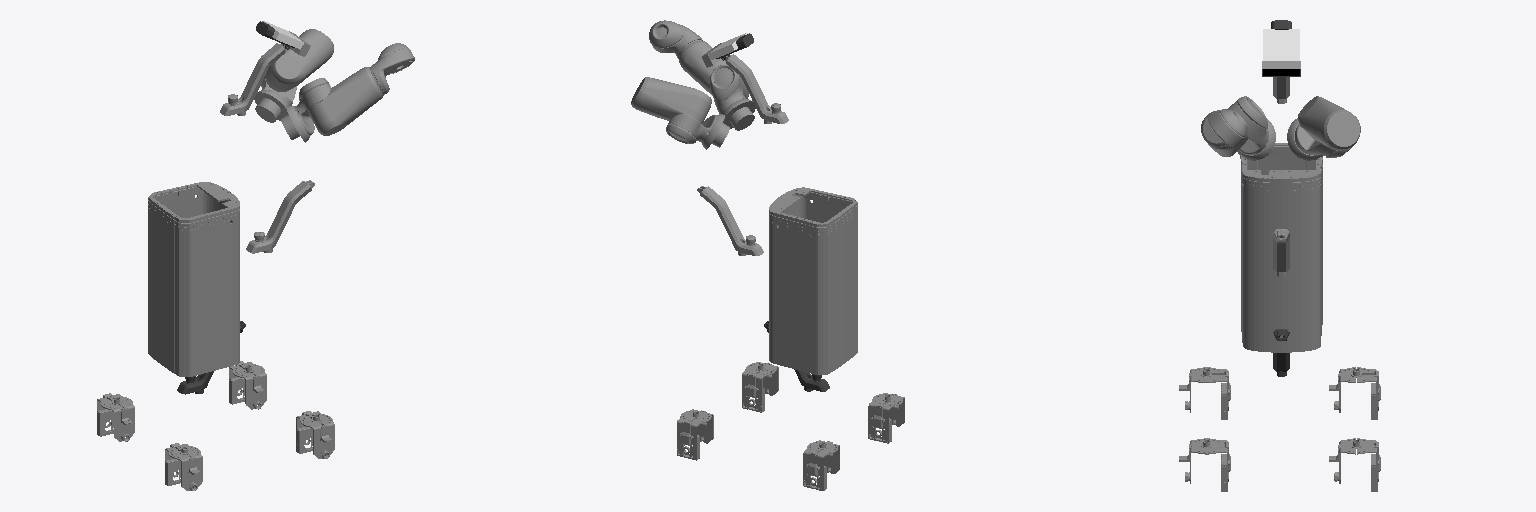
--- Render facts (derived) ---
Views: 3 orthographic renders of the robot side by side, from view 1: azimuth 30°, elevation 25°; view 2: azimuth 150°, elevation 25°; view 3: azimuth 270°, elevation 25°.
Model abb_myumi_v2 with 35 links and 34 joints (9 revolute, 4 continuous, 1 prismatic, 20 fixed), rooted at base_link, posed all joints at 0.
Visible links, largest first — view 1: pillar_body_link, yumi_robr_link_2, yumi_robl_link_2, front_right_steering_link, rear_left_steering_link, rear_right_steering_link, yumi_robr_link_1, front_left_steering_link, yumi_base_link, yumi_cs_base_link, yumi_robr_link_3, yumi_robl_link_1 (+1 smaller); view 2: pillar_body_link, yumi_robl_link_2, yumi_robr_link_1, yumi_robl_link_1, rear_right_steering_link, rear_left_steering_link, front_left_steering_link, front_right_steering_link, yumi_base_link, yumi_cs_base_link, yumi_robr_link_3, yumi_robr_link_2; view 3: pillar_body_link, yumi_robl_link_2, yumi_robr_link_1, yumi_robr_link_3, camera_body, yumi_robl_link_1, front_left_steering_link, rear_left_steering_link, front_right_steering_link, rear_right_steering_link, yumi_base_link.
Link boxes in pixels (left/top/right/bottom): pillar_body_link: left=148, top=182, right=239, bottom=376; yumi_robr_link_2: left=308, top=67, right=384, bottom=135; yumi_robl_link_2: left=265, top=29, right=333, bottom=91; front_right_steering_link: left=296, top=411, right=334, bottom=458; rear_left_steering_link: left=97, top=393, right=134, bottom=441; rear_right_steering_link: left=165, top=443, right=202, bottom=490; yumi_robr_link_1: left=281, top=78, right=330, bottom=142; front_left_steering_link: left=229, top=361, right=266, bottom=409; yumi_base_link: left=246, top=180, right=314, bottom=253; yumi_cs_base_link: left=220, top=43, right=287, bottom=115; yumi_robr_link_3: left=370, top=43, right=414, bottom=93; yumi_robl_link_1: left=254, top=77, right=296, bottom=122; pillar_body_link: left=769, top=187, right=857, bottom=374; yumi_robl_link_2: left=631, top=77, right=711, bottom=123; yumi_robr_link_1: left=710, top=65, right=755, bottom=130; yumi_robl_link_1: left=666, top=114, right=729, bottom=149; rear_right_steering_link: left=868, top=393, right=904, bottom=443; rear_left_steering_link: left=803, top=440, right=839, bottom=490; front_left_steering_link: left=677, top=409, right=713, bottom=460; front_right_steering_link: left=742, top=362, right=778, bottom=412; yumi_base_link: left=697, top=186, right=763, bottom=255; yumi_cs_base_link: left=725, top=54, right=788, bottom=123; yumi_robr_link_3: left=649, top=20, right=702, bottom=58; yumi_robr_link_2: left=679, top=41, right=748, bottom=98; pillar_body_link: left=1240, top=143, right=1322, bottom=352; yumi_robl_link_2: left=1298, top=96, right=1360, bottom=150; yumi_robr_link_1: left=1226, top=96, right=1275, bottom=160; yumi_robr_link_3: left=1201, top=109, right=1246, bottom=147; camera_body: left=1263, top=29, right=1299, bottom=60; yumi_robl_link_1: left=1287, top=118, right=1352, bottom=160; front_left_steering_link: left=1329, top=438, right=1380, bottom=491; rear_left_steering_link: left=1329, top=367, right=1380, bottom=419; front_right_steering_link: left=1179, top=438, right=1230, bottom=491; rear_right_steering_link: left=1179, top=367, right=1230, bottom=419; yumi_base_link: left=1273, top=229, right=1289, bottom=276.
Size in the robot's own frame: 0.8573 by 0.54 by 1.35 metres.
14 mesh visuals loaded from 13 distinct referenced files (9 binary STL); not drawn: 5 (reference not matched to a file when rendering).

URDF robot description (abb_myumi_v2):
<?xml version="1.0" ?>
<!-- =================================================================================== -->
<!-- |    This document was autogenerated by xacro from myumi_v2.xacro                 | -->
<!-- |    EDITING THIS FILE BY HAND IS NOT RECOMMENDED                                 | -->
<!-- =================================================================================== -->
<robot name="abb_myumi_v2">
  <!-- ============================================== Include Macros =============================================== -->
  <!-- ================================================ Main Macros ================================================ -->
  <!-- ============================================== Support Macros =============================================== -->
  <!-- ================================================ Main Macros ================================================ -->
  <!-- ============================================== Support Macros =============================================== -->
  <!-- ================================================ Main Macros ================================================ -->
  <!-- ================================================ Main Macros ================================================ -->
  <!-- ============================================== Support Macros =============================================== -->
  <!-- ================================================ Main Macros ================================================ -->
  <!-- ================================================ Main Macros ================================================ -->
  <!-- ================================================ Main Macros ================================================ -->
  <!-- ============================================== Support Macros =============================================== -->
  <link name="base_link">
    <inertial>
      <!-- Mass -->
      <mass value="1.0e-5"/>
      <!-- Inertia -->
      <inertia ixx="1.0e-6" ixy="0.0" ixz="0.0" iyy="1.0e-6" iyz="0.0" izz="1.0e-6"/>
    </inertial>
  </link>
  <link name="chassis_link">
    <visual>
      <!-- Origin -->
      <origin rpy="0.0 0.0 0.0" xyz="0.0 0.0 0.0"/>
      <geometry>
        <mesh filename="package://abb_mp_myumi_description/meshes/myumi_v2/visual/chassis_link.stl"/>
      </geometry>
      <material name="light_grey">
        <color rgba="0.6 0.6 0.6 1.0"/>
      </material>
    </visual>
    <collision>
      <!-- Origin -->
      <origin rpy="0.0 0.0 0.0" xyz="0.0 0.0 0.0"/>
      <geometry>
        <mesh filename="package://abb_mp_myumi_description/meshes/myumi_v2/collision/chassis_link.stl"/>
      </geometry>
    </collision>
    <inertial>
      <!-- Origin -->
      <origin rpy="0.0 0.0 0.0" xyz="0.0 0.0 0.125"/>
      <!-- Mass -->
      <mass value="46.23"/>
      <inertia ixx="0.44" ixy="0.0" ixz="0.0" iyy="0.45" iyz="0.0" izz="0.66"/>
    </inertial>
  </link>
  <link name="front_radar_link">
    <inertial>
      <!-- Mass -->
      <mass value="1.0e-5"/>
      <!-- Inertia -->
      <inertia ixx="1.0e-6" ixy="0.0" ixz="0.0" iyy="1.0e-6" iyz="0.0" izz="1.0e-6"/>
    </inertial>
  </link>
  <link name="front_laser_scanner_link">
    <inertial>
      <!-- Mass -->
      <mass value="1.0e-5"/>
      <!-- Inertia -->
      <inertia ixx="1.0e-6" ixy="0.0" ixz="0.0" iyy="1.0e-6" iyz="0.0" izz="1.0e-6"/>
    </inertial>
  </link>
  <link name="rear_laser_scanner_link">
    <inertial>
      <!-- Mass -->
      <mass value="1.0e-5"/>
      <!-- Inertia -->
      <inertia ixx="1.0e-6" ixy="0.0" ixz="0.0" iyy="1.0e-6" iyz="0.0" izz="1.0e-6"/>
    </inertial>
  </link>
  <joint name="chassis_joint" type="fixed">
    <!-- Parent and child -->
    <parent link="base_link"/>
    <child link="chassis_link"/>
    <!-- Origin -->
    <origin rpy="0.0 0.0 0.0" xyz="0.0 0.0 0.0292"/>
  </joint>
  <joint name="front_radar_joint" type="fixed">
    <!-- Parent and child -->
    <parent link="chassis_link"/>
    <child link="front_radar_link"/>
    <!-- Origin -->
    <origin rpy="0.0 0.0 0.0" xyz="0.35116 0.0 0.07192"/>
  </joint>
  <joint name="front_laser_scanner_joint" type="fixed">
    <!-- Parent and child -->
    <parent link="chassis_link"/>
    <child link="front_laser_scanner_link"/>
    <!-- Origin -->
    <origin rpy="0.0 0.0 0.0" xyz="0.16789 0.0 0.2837"/>
  </joint>
  <joint name="rear_laser_scanner_joint" type="fixed">
    <!-- Parent and child -->
    <parent link="chassis_link"/>
    <child link="rear_laser_scanner_link"/>
    <!-- Origin -->
    <origin rpy="0.0 0.0 3.141592653589793" xyz="-0.17921 0.0 0.2837"/>
  </joint>
  <!--link name="world"/>

  <joint name="fixed" type="fixed">
    <parent link="world"/>
    <child link="base_link"/>
  </joint-->
  <gazebo reference="chassis_link">
    <material>Gazebo/White</material>
  </gazebo>
  <!-- ================ Subcomponents ================ -->
  <!-- ============================================== Include Macros =============================================== -->
  <!-- ================================================ Main Macros ================================================ -->
  <!-- ============================================== Support Macros =============================================== -->
  <!-- ================================================ Main Macros ================================================ -->
  <!-- ============================================== Support Macros =============================================== -->
  <!-- ================================================ Main Macros ================================================ -->
  <!-- ================================================ Main Macros ================================================ -->
  <!-- ============================================== Support Macros =============================================== -->
  <!-- ================================================ Main Macros ================================================ -->
  <!-- ================================================ Main Macros ================================================ -->
  <!-- ================================================ Main Macros ================================================ -->
  <!-- ============================================== Support Macros =============================================== -->
  <link name="front_left_base_link">
    <inertial>
      <!-- Mass -->
      <mass value="1.0e-5"/>
      <!-- Inertia -->
      <inertia ixx="1.0e-6" ixy="0.0" ixz="0.0" iyy="1.0e-6" iyz="0.0" izz="1.0e-6"/>
    </inertial>
  </link>
  <link name="front_left_steering_link">
    <visual>
      <!-- Origin -->
      <origin rpy="0.0 0.0 0.0" xyz="0.0 0.0 0.0"/>
      <geometry>
        <mesh filename="package://abb_mp_steerable_wheel_description/meshes/sw_v3/visual/steering_link.stl"/>
      </geometry>
      <material name="light_grey">
        <color rgba="0.6 0.6 0.6 1.0"/>
      </material>
    </visual>
    <collision>
      <!-- Origin -->
      <origin rpy="0.0 0.0 0.0" xyz="0.0 0.0 0.0"/>
      <geometry>
        <mesh filename="package://abb_mp_steerable_wheel_description/meshes/sw_v3/collision/steering_link.stl"/>
      </geometry>
    </collision>
    <inertial>
      <!-- Origin -->
      <origin rpy="0.0 1.0000736613927508 0.0" xyz="0.0 0.0 0.0"/>
      <!-- Mass -->
      <mass value="2.6"/>
      <inertia ixx="0.0018" ixy="0.0" ixz="0.0" iyy="0.0017" iyz="-0.0004" izz="0.0013"/>
    </inertial>
  </link>
  <link name="front_left_drive_wheel_link">
    <visual>
      <!-- Origin -->
      <origin rpy="0.0 0.0 0.0" xyz="0.0 0.0 0.0"/>
      <geometry>
        <mesh filename="package://abb_mp_steerable_wheel_description/meshes/sw_v3/visual/drive_wheel_link.stl"/>
      </geometry>
      <material name="dark_grey">
        <color rgba="0.3 0.3 0.3 1.0"/>
      </material>
    </visual>
    <collision>
      <!-- Origin -->
      <origin rpy="1.5707963267948966 0.0 0.0" xyz="0.0 0.0 0.0"/>
      <geometry>
        <cylinder length="0.047" radius="0.0865"/>
      </geometry>
    </collision>
    <inertial>
      <!-- Origin -->
      <origin rpy="0.0 0.0 0.0" xyz="0.0 0.0 0.0"/>
      <!-- Mass -->
      <mass value="1.31"/>
      <inertia ixx="0.0018" ixy="0.0" ixz="0.0" iyy="0.0017" iyz="0.0" izz="0.0013"/>
    </inertial>
  </link>
  <joint name="front_left_steering_joint" type="revolute">
    <!-- Parent and child -->
    <parent link="front_left_base_link"/>
    <child link="front_left_steering_link"/>
    <!-- Origin -->
    <origin rpy="0.0 0.0 0.0" xyz="0.0 0.0 0.0"/>
    <axis xyz="0.0 0.0 1.0"/>
    <limit effort="1000.0" lower="-3.141592653589793" upper="3.141592653589793" velocity="62.83185307179586"/>
    <dynamics damping="0.0" friction="0.0"/>
  </joint>
  <joint name="front_left_drive_wheel_joint" type="continuous">
    <!-- Parent and child -->
    <parent link="front_left_steering_link"/>
    <child link="front_left_drive_wheel_link"/>
    <!-- Origin -->
    <origin rpy="0.0 0.0 0.0" xyz="0.0 0.0 -0.0925"/>
    <axis xyz="0.0 1.0 0.0"/>
  </joint>
  <transmission name="front_left_steering_transmission">
    <type>transmission_interface/SimpleTransmission</type>
    <joint name="front_left_steering_joint">
      <hardwareInterface>hardware_interface/PositionJointInterface</hardwareInterface>
    </joint>
    <actuator name="front_left_steering_joint_motor">
      <mechanicalReduction>1.0</mechanicalReduction>
    </actuator>
  </transmission>
  <transmission name="front_left_drive_wheel_transmission">
    <type>transmission_interface/SimpleTransmission</type>
    <joint name="front_left_drive_wheel_joint">
      <hardwareInterface>hardware_interface/VelocityJointInterface</hardwareInterface>
    </joint>
    <actuator name="front_left_drive_wheel_joint_motor">
      <mechanicalReduction>1.0</mechanicalReduction>
    </actuator>
  </transmission>
  <gazebo reference="front_left_steering_link">
    <material>Gazebo/White</material>
  </gazebo>
  <gazebo reference="front_left_drive_wheel_link">
    <material>Gazebo/Grey</material>
    <mu1 value="1.0"/>
    <mu2 value="1.0"/>
    <kp value="1000000.0"/>
    <kd value="1000.0"/>
    <fdir1 value="1.0 0.0 0.0"/>
  </gazebo>
  <!-- ============================================== Include Macros =============================================== -->
  <!-- ================================================ Main Macros ================================================ -->
  <!-- ============================================== Support Macros =============================================== -->
  <!-- ================================================ Main Macros ================================================ -->
  <!-- ============================================== Support Macros =============================================== -->
  <!-- ================================================ Main Macros ================================================ -->
  <!-- ================================================ Main Macros ================================================ -->
  <!-- ============================================== Support Macros =============================================== -->
  <!-- ================================================ Main Macros ================================================ -->
  <!-- ================================================ Main Macros ================================================ -->
  <!-- ================================================ Main Macros ================================================ -->
  <!-- ============================================== Support Macros =============================================== -->
  <link name="front_right_base_link">
    <inertial>
      <!-- Mass -->
      <mass value="1.0e-5"/>
      <!-- Inertia -->
      <inertia ixx="1.0e-6" ixy="0.0" ixz="0.0" iyy="1.0e-6" iyz="0.0" izz="1.0e-6"/>
    </inertial>
  </link>
  <link name="front_right_steering_link">
    <visual>
      <!-- Origin -->
      <origin rpy="0.0 0.0 0.0" xyz="0.0 0.0 0.0"/>
      <geometry>
        <mesh filename="package://abb_mp_steerable_wheel_description/meshes/sw_v3/visual/steering_link.stl"/>
      </geometry>
      <material name="light_grey">
        <color rgba="0.6 0.6 0.6 1.0"/>
      </material>
    </visual>
    <collision>
      <!-- Origin -->
      <origin rpy="0.0 0.0 0.0" xyz="0.0 0.0 0.0"/>
      <geometry>
        <mesh filename="package://abb_mp_steerable_wheel_description/meshes/sw_v3/collision/steering_link.stl"/>
      </geometry>
    </collision>
    <inertial>
      <!-- Origin -->
      <origin rpy="0.0 1.0000736613927508 0.0" xyz="0.0 0.0 0.0"/>
      <!-- Mass -->
      <mass value="2.6"/>
      <inertia ixx="0.0018" ixy="0.0" ixz="0.0" iyy="0.0017" iyz="-0.0004" izz="0.0013"/>
    </inertial>
  </link>
  <link name="front_right_drive_wheel_link">
    <visual>
      <!-- Origin -->
      <origin rpy="0.0 0.0 0.0" xyz="0.0 0.0 0.0"/>
      <geometry>
        <mesh filename="package://abb_mp_steerable_wheel_description/meshes/sw_v3/visual/drive_wheel_link.stl"/>
      </geometry>
      <material name="dark_grey">
        <color rgba="0.3 0.3 0.3 1.0"/>
      </material>
    </visual>
    <collision>
      <!-- Origin -->
      <origin rpy="1.5707963267948966 0.0 0.0" xyz="0.0 0.0 0.0"/>
      <geometry>
        <cylinder length="0.047" radius="0.0865"/>
      </geometry>
    </collision>
    <inertial>
      <!-- Origin -->
      <origin rpy="0.0 0.0 0.0" xyz="0.0 0.0 0.0"/>
      <!-- Mass -->
      <mass value="1.31"/>
      <inertia ixx="0.0018" ixy="0.0" ixz="0.0" iyy="0.0017" iyz="0.0" izz="0.0013"/>
    </inertial>
  </link>
  <joint name="front_right_steering_joint" type="revolute">
    <!-- Parent and child -->
    <parent link="front_right_base_link"/>
    <child link="front_right_steering_link"/>
    <!-- Origin -->
    <origin rpy="0.0 0.0 0.0" xyz="0.0 0.0 0.0"/>
    <axis xyz="0.0 0.0 1.0"/>
    <limit effort="1000.0" lower="-3.141592653589793" upper="3.141592653589793" velocity="62.83185307179586"/>
    <dynamics damping="0.0" friction="0.0"/>
  </joint>
  <joint name="front_right_drive_wheel_joint" type="continuous">
    <!-- Parent and child -->
    <parent link="front_right_steering_link"/>
    <child link="front_right_drive_wheel_link"/>
    <!-- Origin -->
    <origin rpy="0.0 0.0 0.0" xyz="0.0 0.0 -0.0925"/>
    <axis xyz="0.0 1.0 0.0"/>
  </joint>
  <transmission name="front_right_steering_transmission">
    <type>transmission_interface/SimpleTransmission</type>
    <joint name="front_right_steering_joint">
      <hardwareInterface>hardware_interface/PositionJointInterface</hardwareInterface>
    </joint>
    <actuator name="front_right_steering_joint_motor">
      <mechanicalReduction>1.0</mechanicalReduction>
    </actuator>
  </transmission>
  <transmission name="front_right_drive_wheel_transmission">
    <type>transmission_interface/SimpleTransmission</type>
    <joint name="front_right_drive_wheel_joint">
      <hardwareInterface>hardware_interface/VelocityJointInterface</hardwareInterface>
    </joint>
    <actuator name="front_right_drive_wheel_joint_motor">
      <mechanicalReduction>1.0</mechanicalReduction>
    </actuator>
  </transmission>
  <gazebo reference="front_right_steering_link">
    <material>Gazebo/White</material>
  </gazebo>
  <gazebo reference="front_right_drive_wheel_link">
    <material>Gazebo/Grey</material>
    <mu1 value="1.0"/>
    <mu2 value="1.0"/>
    <kp value="1000000.0"/>
    <kd value="1000.0"/>
    <fdir1 value="1.0 0.0 0.0"/>
  </gazebo>
  <!-- ============================================== Include Macros =============================================== -->
  <!-- ================================================ Main Macros ================================================ -->
  <!-- ============================================== Support Macros =============================================== -->
  <!-- ================================================ Main Macros ================================================ -->
  <!-- ============================================== Support Macros =============================================== -->
  <!-- ================================================ Main Macros ================================================ -->
  <!-- ================================================ Main Macros ================================================ -->
  <!-- ============================================== Support Macros =============================================== -->
  <!-- ================================================ Main Macros ================================================ -->
  <!-- ================================================ Main Macros ================================================ -->
  <!-- ================================================ Main Macros ================================================ -->
  <!-- ============================================== Support Macros =============================================== -->
  <link name="rear_right_base_link">
    <inertial>
      <!-- Mass -->
      <mass value="1.0e-5"/>
      <!-- Inertia -->
      <inertia ixx="1.0e-6" ixy="0.0" ixz="0.0" iyy="1.0e-6" iyz="0.0" izz="1.0e-6"/>
    </inertial>
  </link>
  <link name="rear_right_steering_link">
    <visual>
      <!-- Origin -->
      <origin rpy="0.0 0.0 0.0" xyz="0.0 0.0 0.0"/>
      <geometry>
        <mesh filename="package://abb_mp_steerable_wheel_description/meshes/sw_v3/visual/steering_link.stl"/>
      </geometry>
      <material name="light_grey">
        <color rgba="0.6 0.6 0.6 1.0"/>
      </material>
    </visual>
    <collision>
      <!-- Origin -->
      <origin rpy="0.0 0.0 0.0" xyz="0.0 0.0 0.0"/>
      <geometry>
        <mesh filename="package://abb_mp_steerable_wheel_description/meshes/sw_v3/collision/steering_link.stl"/>
      </geometry>
    </collision>
    <inertial>
      <!-- Origin -->
      <origin rpy="0.0 1.0000736613927508 0.0" xyz="0.0 0.0 0.0"/>
      <!-- Mass -->
      <mass value="2.6"/>
      <inertia ixx="0.0018" ixy="0.0" ixz="0.0" iyy="0.0017" iyz="-0.0004" izz="0.0013"/>
    </inertial>
  </link>
  <link name="rear_right_drive_wheel_link">
    <visual>
      <!-- Origin -->
      <origin rpy="0.0 0.0 0.0" xyz="0.0 0.0 0.0"/>
      <geometry>
        <mesh filename="package://abb_mp_steerable_wheel_description/meshes/sw_v3/visual/drive_wheel_link.stl"/>
      </geometry>
      <material name="dark_grey">
        <color rgba="0.3 0.3 0.3 1.0"/>
      </material>
    </visual>
    <collision>
      <!-- Origin -->
      <origin rpy="1.5707963267948966 0.0 0.0" xyz="0.0 0.0 0.0"/>
      <geometry>
        <cylinder length="0.047" radius="0.0865"/>
      </geometry>
    </collision>
    <inertial>
      <!-- Origin -->
      <origin rpy="0.0 0.0 0.0" xyz="0.0 0.0 0.0"/>
      <!-- Mass -->
      <mass value="1.31"/>
      <inertia ixx="0.0018" ixy="0.0" ixz="0.0" iyy="0.0017" iyz="0.0" izz="0.0013"/>
    </inertial>
  </link>
  <joint name="rear_right_steering_joint" type="revolute">
    <!-- Parent and child -->
    <parent link="rear_right_base_link"/>
    <child link="rear_right_steering_link"/>
    <!-- Origin -->
    <origin rpy="0.0 0.0 0.0" xyz="0.0 0.0 0.0"/>
    <axis xyz="0.0 0.0 1.0"/>
    <limit effort="1000.0" lower="-3.141592653589793" upper="3.141592653589793" velocity="62.83185307179586"/>
    <dynamics damping="0.0" friction="0.0"/>
  </joint>
  <joint name="rear_right_drive_wheel_joint" type="continuous">
    <!-- Parent and child -->
    <parent link="rear_right_steering_link"/>
    <child link="rear_right_drive_wheel_link"/>
    <!-- Origin -->
    <origin rpy="0.0 0.0 0.0" xyz="0.0 0.0 -0.0925"/>
    <axis xyz="0.0 1.0 0.0"/>
  </joint>
  <transmission name="rear_right_steering_transmission">
    <type>transmission_interface/SimpleTransmission</type>
    <joint name="rear_right_steering_joint">
      <hardwareInterface>hardware_interface/PositionJointInterface</hardwareInterface>
    </joint>
    <actuator name="rear_right_steering_joint_motor">
      <mechanicalReduction>1.0</mechanicalReduction>
    </actuator>
  </transmission>
  <transmission name="rear_right_drive_wheel_transmission">
    <type>transmission_interface/SimpleTransmission</type>
    <joint name="rear_right_drive_wheel_joint">
      <hardwareInterface>hardware_interface/VelocityJointInterface</hardwareInterface>
    </joint>
    <actuator name="rear_right_drive_wheel_joint_motor">
      <mechanicalReduction>1.0</mechanicalReduction>
    </actuator>
  </transmission>
  <gazebo reference="rear_right_steering_link">
    <material>Gazebo/White</material>
  </gazebo>
  <gazebo reference="rear_right_drive_wheel_link">
    <material>Gazebo/Grey</material>
    <mu1 value="1.0"/>
    <mu2 value="1.0"/>
    <kp value="1000000.0"/>
    <kd value="1000.0"/>
    <fdir1 value="1.0 0.0 0.0"/>
  </gazebo>
  <!-- ============================================== Include Macros =============================================== -->
  <!-- ================================================ Main Macros ================================================ -->
  <!-- ============================================== Support Macros =============================================== -->
  <!-- ================================================ Main Macros ================================================ -->
  <!-- ============================================== Support Macros =============================================== -->
  <!-- ================================================ Main Macros ================================================ -->
  <!-- ================================================ Main Macros ================================================ -->
  <!-- ============================================== Support Macros =============================================== -->
  <!-- ================================================ Main Macros ================================================ -->
  <!-- ================================================ Main Macros ================================================ -->
  <!-- ================================================ Main Macros ================================================ -->
  <!-- ============================================== Support Macros =============================================== -->
  <link name="rear_left_base_link">
    <inertial>
      <!-- Mass -->
      <mass value="1.0e-5"/>
      <!-- Inertia -->
      <inertia ixx="1.0e-6" ixy="0.0" ixz="0.0" iyy="1.0e-6" iyz="0.0" izz="1.0e-6"/>
    </inertial>
  </link>
  <link name="rear_left_steering_link">
    <visual>
      <!-- Origin -->
      <origin rpy="0.0 0.0 0.0" xyz="0.0 0.0 0.0"/>
      <geometry>
        <mesh filename="package://abb_mp_steerable_wheel_description/meshes/sw_v3/visual/steering_link.stl"/>
      </geometry>
      <material name="light_grey">
        <color rgba="0.6 0.6 0.6 1.0"/>
      </material>
    </visual>
    <collision>
      <!-- Origin -->
      <origin rpy="0.0 0.0 0.0" xyz="0.0 0.0 0.0"/>
      <geometry>
        <mesh filename="package://abb_mp_steerable_wheel_description/meshes/sw_v3/collision/steering_link.stl"/>
      </geometry>
    </collision>
    <inertial>
      <!-- Origin -->
      <origin rpy="0.0 1.0000736613927508 0.0" xyz="0.0 0.0 0.0"/>
      <!-- Mass -->
      <mass value="2.6"/>
      <inertia ixx="0.0018" ixy="0.0" ixz="0.0" iyy="0.0017" iyz="-0.0004" izz="0.0013"/>
    </inertial>
  </link>
  <link name="rear_left_drive_wheel_link">
    <visual>
      <!-- Origin -->
      <origin rpy="0.0 0.0 0.0" xyz="0.0 0.0 0.0"/>
      <geometry>
        <mesh filename="package://abb_mp_steerable_wheel_description/meshes/sw_v3/visual/drive_wheel_link.stl"/>
      </geometry>
      <material name="dark_grey">
        <color rgba="0.3 0.3 0.3 1.0"/>
      </material>
    </visual>
    <collision>
      <!-- Origin -->
      <origin rpy="1.5707963267948966 0.0 0.0" xyz="0.0 0.0 0.0"/>
      <geometry>
        <cylinder length="0.047" radius="0.0865"/>
      </geometry>
    </collision>
    <inertial>
      <!-- Origin -->
      <origin rpy="0.0 0.0 0.0" xyz="0.0 0.0 0.0"/>
      <!-- Mass -->
      <mass value="1.31"/>
      <inertia ixx="0.0018" ixy="0.0" ixz="0.0" iyy="0.0017" iyz="0.0" izz="0.0013"/>
    </inertial>
  </link>
  <joint name="rear_left_steering_joint" type="revolute">
    <!-- Parent and child -->
    <parent link="rear_left_base_link"/>
    <child link="rear_left_steering_link"/>
    <!-- Origin -->
    <origin rpy="0.0 0.0 0.0" xyz="0.0 0.0 0.0"/>
    <axis xyz="0.0 0.0 1.0"/>
    <limit effort="1000.0" lower="-3.141592653589793" upper="3.141592653589793" velocity="62.83185307179586"/>
    <dynamics damping="0.0" friction="0.0"/>
  </joint>
  <joint name="rear_left_drive_wheel_joint" type="continuous">
    <!-- Parent and child -->
    <parent link="rear_left_steering_link"/>
    <child link="rear_left_drive_wheel_link"/>
    <!-- Origin -->
    <origin rpy="0.0 0.0 0.0" xyz="0.0 0.0 -0.0925"/>
    <axis xyz="0.0 1.0 0.0"/>
  </joint>
  <transmission name="rear_left_steering_transmission">
    <type>transmission_interface/SimpleTransmission</type>
    <joint name="rear_left_steering_joint">
      <hardwareInterface>hardware_interface/PositionJointInterface</hardwareInterface>
    </joint>
    <actuator name="rear_left_steering_joint_motor">
      <mechanicalReduction>1.0</mechanicalReduction>
    </actuator>
  </transmission>
  <transmission name="rear_left_drive_wheel_transmission">
    <type>transmission_interface/SimpleTransmission</type>
    <joint name="rear_left_drive_wheel_joint">
      <hardwareInterface>hardware_interface/VelocityJointInterface</hardwareInterface>
    </joint>
    <actuator name="rear_left_drive_wheel_joint_motor">
      <mechanicalReduction>1.0</mechanicalReduction>
    </actuator>
  </transmission>
  <gazebo reference="rear_left_steering_link">
    <material>Gazebo/White</material>
  </gazebo>
  <gazebo reference="rear_left_drive_wheel_link">
    <material>Gazebo/Grey</material>
    <mu1 value="1.0"/>
    <mu2 value="1.0"/>
    <kp value="1000000.0"/>
    <kd value="1000.0"/>
    <fdir1 value="1.0 0.0 0.0"/>
  </gazebo>
  <joint name="front_left_joint" type="fixed">
    <!-- Parent and child -->
    <parent link="chassis_link"/>
    <child link="front_left_base_link"/>
    <!-- Origin -->
    <origin rpy="0.0 0.0 0.0" xyz="0.285 0.2002 0.1498"/>
  </joint>
  <joint name="front_right_joint" type="fixed">
    <!-- Parent and child -->
    <parent link="chassis_link"/>
    <child link="front_right_base_link"/>
    <!-- Origin -->
    <origin rpy="0.0 0.0 0.0" xyz="0.285 -0.2002 0.1498"/>
  </joint>
  <joint name="rear_right_joint" type="fixed">
    <!-- Parent and child -->
    <parent link="chassis_link"/>
    <child link="rear_right_base_link"/>
    <!-- Origin -->
    <origin rpy="0.0 0.0 0.0" xyz="-0.165 -0.2002 0.1498"/>
  </joint>
  <joint name="rear_left_joint" type="fixed">
    <!-- Parent and child -->
    <parent link="chassis_link"/>
    <child link="rear_left_base_link"/>
    <!-- Origin -->
    <origin rpy="0.0 0.0 0.0" xyz="-0.165 0.2002 0.1498"/>
  </joint>
  <!-- ============================================== Include Macros =============================================== -->
  <!-- ================================================ Main Macros ================================================ -->
  <!-- ============================================== Support Macros =============================================== -->
  <!-- ================================================ Main Macros ================================================ -->
  <!-- ============================================== Support Macros =============================================== -->
  <!-- ================================================ Main Macros ================================================ -->
  <!-- ================================================ Main Macros ================================================ -->
  <!-- ============================================== Support Macros =============================================== -->
  <!-- ================================================ Main Macros ================================================ -->
  <!-- ================================================ Main Macros ================================================ -->
  <!-- ================================================ Main Macros ================================================ -->
  <!-- ============================================== Support Macros =============================================== -->
  <link name="pillar_base_link">
    <visual>
      <!-- Origin -->
      <origin rpy="0.0 0.0 0.0" xyz="0.0 0.0 0.241"/>
      <geometry>
        <mesh filename="package://abb_mp_telescopic_pillar_description/meshes/tp_v2/visual/base_link.stl"/>
      </geometry>
      <material name="dark_grey">
        <color rgba="0.3 0.3 0.3 1.0"/>
      </material>
    </visual>
    <collision>
      <!-- Origin -->
      <origin rpy="0.0 0.0 0.0" xyz="0.0 0.0 0.241"/>
      <geometry>
        <mesh filename="package://abb_mp_telescopic_pillar_description/meshes/tp_v2/collision/base_link.stl"/>
      </geometry>
    </collision>
    <inertial>
      <!-- Origin -->
      <origin rpy="0.0 0.0 0.0" xyz="0.0 0.0 0.36"/>
      <!-- Mass -->
      <mass value="5.5"/>
      <inertia ixx="0.001422" ixy="0.0" ixz="0.0" iyy="0.001422" iyz="0.0" izz="0.000366"/>
    </inertial>
  </link>
  <link name="pillar_body_link">
    <visual>
      <!-- Origin -->
      <origin rpy="0.0 0.0 0.0" xyz="0.0 0.0 0.1"/>
      <geometry>
        <mesh filename="package://abb_mp_telescopic_pillar_description/meshes/tp_v2/visual/body_link.stl"/>
      </geometry>
      <material name="light_grey">
        <color rgba="0.6 0.6 0.6 1.0"/>
      </material>
    </visual>
    <collision>
      <!-- Origin -->
      <origin rpy="0.0 0.0 0.0" xyz="0.0 0.0 0.1"/>
      <geometry>
        <mesh filename="package://abb_mp_telescopic_pillar_description/meshes/tp_v2/collision/body_link.stl"/>
      </geometry>
    </collision>
    <inertial>
      <!-- Origin -->
      <origin rpy="0.0 0.0 0.0" xyz="0.0 0.0 0.36"/>
      <!-- Mass -->
      <mass value="5.5"/>
      <inertia ixx="0.001422" ixy="0.0" ixz="0.0" iyy="0.001422" iyz="0.0" izz="0.000366"/>
    </inertial>
  </link>
  <link name="pillar_top_link">
    <inertial>
      <!-- Mass -->
      <mass value="1.0e-5"/>
      <!-- Inertia -->
      <inertia ixx="1.0e-6" ixy="0.0" ixz="0.0" iyy="1.0e-6" iyz="0.0" izz="1.0e-6"/>
    </inertial>
  </link>
  <joint name="pillar_body_joint" type="prismatic">
    <!-- Parent and child -->
    <parent link="pillar_base_link"/>
    <child link="pillar_body_link"/>
    <!-- Origin -->
    <origin rpy="0.0 0.0 0.0" xyz="0.0 0.0 0.241"/>
    <axis xyz="0 0 1"/>
    <limit effort="1000.0" lower="0.0" upper="0.45" velocity="1.0"/>
    <dynamics damping="0.0" friction="0.0"/>
  </joint>
  <joint name="pillar_top_joint" type="fixed">
    <!-- Parent and child -->
    <parent link="pillar_body_link"/>
    <child link="pillar_top_link"/>
    <!-- Origin -->
    <origin rpy="0.0 0.0 0.0" xyz="0.0 0.0 0.5125"/>
  </joint>
  <transmission name="pillar_body_transmission">
    <type>transmission_interface/SimpleTransmission</type>
    <joint name="pillar_body_joint">
      <hardwareInterface>hardware_interface/EffortJointInterface</hardwareInterface>
    </joint>
    <actuator name="pillar_body_joint_motor">
      <mechanicalReduction>1.0</mechanicalReduction>
    </actuator>
  </transmission>
  <gazebo reference="pillar_base_link">
    <material>Gazebo/Grey</material>
    <mu1 value="0.8"/>
    <mu2 value="0.8"/>
    <kp value="1000000.0"/>
    <kd value="1000.0"/>
    <fdir1 value="0 0 1"/>
    <maxVel value="0.0"/>
    <minDepth value="0.001"/>
  </gazebo>
  <gazebo reference="pillar_body_link">
    <material>Gazebo/White</material>
    <mu1 value="0.8"/>
    <mu2 value="0.8"/>
    <kp value="1000000.0"/>
    <kd value="1000.0"/>
    <fdir1 value="0 0 1"/>
    <maxVel value="0.0"/>
    <minDepth value="0.001"/>
  </gazebo>
  <!--xacro:include filename="$(find abb_mp_telescopic_pillar_description)/urdf/gazebo.urdf.xacro"/-->
  <joint name="chassi_pillar_joint" type="fixed">
    <!-- Parent and child -->
    <parent link="chassis_link"/>
    <child link="pillar_base_link"/>
    <!-- Origin -->
    <origin rpy="0.0 0.0 0.0" xyz="0.0 0.0 0.0"/>
  </joint>
  <!-- ============================================== Include Macros =============================================== -->
  <!-- ================================================ Main Macros ================================================ -->
  <!-- ============================================== Support Macros =============================================== -->
  <!-- ================================================ Main Macros ================================================ -->
  <!-- ============================================== Support Macros =============================================== -->
  <!-- ================================================ Main Macros ================================================ -->
  <!-- ================================================ Main Macros ================================================ -->
  <!-- ============================================== Support Macros =============================================== -->
  <!-- ================================================ Main Macros ================================================ -->
  <!-- ================================================ Main Macros ================================================ -->
  <!-- ================================================ Main Macros ================================================ -->
  <!-- ============================================== Support Macros =============================================== -->
  <link name="yumi_base_link">
    <visual>
      <!-- Origin -->
      <origin rpy="0.0 0.0 0.0" xyz="0.0 0.0 0.0"/>
      <geometry>
        <mesh filename="package://abb_mp_irb14000_description/meshes/irb14000_05_50/visual/base_link.stl"/>
      </geometry>
      <material name="light_grey">
        <color rgba="0.6 0.6 0.6 1.0"/>
      </material>
    </visual>
    <collision>
      <!-- Origin -->
      <origin rpy="0.0 0.0 0.0" xyz="0.0 0.0 0.0"/>
      <geometry>
        <mesh filename="package://abb_mp_irb14000_description/meshes/irb14000_05_50/collision/base_link.stl"/>
      </geometry>
    </collision>
    <inertial>
      <!-- Origin -->
      <origin rpy="0.0 0.0 0.0" xyz="0.0 0.0 0.0"/>
      <!-- Mass -->
      <mass value="1.095"/>
      <inertia ixx="0.00088" ixy="0.0" ixz="0.0" iyy="0.00177" iyz="0.0" izz="0.00177"/>
    </inertial>
  </link>
  <link name="yumi_base">
    <inertial>
      <!-- Mass -->
      <mass value="1.0e-5"/>
      <!-- Inertia -->
      <inertia ixx="1.0e-6" ixy="0.0" ixz="0.0" iyy="1.0e-6" iyz="0.0" izz="1.0e-6"/>
    </inertial>
  </link>
  <link name="yumi_robl_base_link">
    <inertial>
      <!-- Mass -->
      <mass value="1.0e-5"/>
      <!-- Inertia -->
      <inertia ixx="1.0e-6" ixy="0.0" ixz="0.0" iyy="1.0e-6" iyz="0.0" izz="1.0e-6"/>
    </inertial>
  </link>
  <link name="yumi_robl_link_1">
    <visual>
      <!-- Origin -->
      <origin rpy="0.0 0.0 0.0" xyz="0.0 0.0 0.0"/>
      <geometry>
        <mesh filename="package://abb_mp_irb14000_description/meshes/irb14000_05_50/visual/robl_link_1.stl"/>
      </geometry>
      <material name="light_grey">
        <color rgba="0.6 0.6 0.6 1.0"/>
      </material>
    </visual>
    <collision>
      <!-- Origin -->
      <origin rpy="0.0 0.0 0.0" xyz="0.0 0.0 0.0"/>
      <geometry>
        <mesh filename="package://abb_mp_irb14000_description/meshes/irb14000_05_50/collision/robl_link_1.stl"/>
      </geometry>
    </collision>
    <inertial>
      <!-- Origin -->
      <origin rpy="0.0 0.0 0.0" xyz="-0.01468 -0.00021 0.06646"/>
      <!-- Mass -->
      <mass value="1.753"/>
      <inertia ixx="-0.002132958402100001" ixy="0.0001064041484" ixz="-0.0028402842984" iyy="-0.002670656802000002" iyz="-0.0002044659198" izz="0.0025121469855"/>
    </inertial>
  </link>
  <link name="yumi_robl_link_2">
    <visual>
      <!-- Origin -->
      <origin rpy="0.0 0.0 0.0" xyz="0.0 0.0 0.0"/>
      <geometry>
        <mesh filename="package://abb_mp_irb14000_description/meshes/irb14000_05_50/visual/robl_link_2.stl"/>
      </geometry>
      <material name="light_grey">
        <color rgba="0.6 0.6 0.6 1.0"/>
      </material>
    </visual>
    <collision>
      <!-- Origin -->
      <origin rpy="0.0 0.0 0.0" xyz="0.0 0.0 0.0"/>
      <geometry>
        <mesh filename="package://abb_mp_irb14000_description/meshes/irb14000_05_50/collision/robl_link_2.stl"/>
      </geometry>
    </collision>
    <inertial>
      <!-- Origin -->
      <origin rpy="0.0 0.0 0.0" xyz="0.01828 -0.0177 0.06202"/>
      <!-- Mass -->
      <mass value="1.444"/>
      <inertia ixx="0.001423291542400001" ixy="-0.000108214864" ixz="0.0026970997664" iyy="0.001143157572800001" iyz="-0.000155156776" izz="0.0013150845104"/>
    </inertial>
  </link>
  <!--xacro:link_tag name="robl_link_3"/>
	  <xacro:link_tag name="robl_link_4"/>
	  <xacro:link_tag name="robl_link_5"/>
	  <xacro:link_tag name="robl_link_6"/>
	  <xacro:link_tag name="robl_link_7"/>
	  <xacro:link_tag name="robl_flange"/>
	  <xacro:link_tag name="robl_tool0"/-->
  <link name="yumi_robr_base_link">
    <inertial>
      <!-- Mass -->
      <mass value="1.0e-5"/>
      <!-- Inertia -->
      <inertia ixx="1.0e-6" ixy="0.0" ixz="0.0" iyy="1.0e-6" iyz="0.0" izz="1.0e-6"/>
    </inertial>
  </link>
  <link name="yumi_robr_link_1">
    <visual>
      <!-- Origin -->
      <origin rpy="0.0 0.0 0.0" xyz="0.0 0.0 0.0"/>
      <geometry>
        <mesh filename="package://abb_mp_irb14000_description/meshes/irb14000_05_50/visual/robr_link_1.stl"/>
      </geometry>
      <material name="light_grey">
        <color rgba="0.6 0.6 0.6 1.0"/>
      </material>
    </visual>
    <collision>
      <!-- Origin -->
      <origin rpy="0.0 0.0 0.0" xyz="0.0 0.0 0.0"/>
      <geometry>
        <mesh filename="package://abb_mp_irb14000_description/meshes/irb14000_05_50/collision/robr_link_1.stl"/>
      </geometry>
    </collision>
    <inertial>
      <!-- Origin -->
      <origin rpy="0.0 0.0 0.0" xyz="-0.01468 -0.00021 0.06646"/>
      <!-- Mass -->
      <mass value="1.753"/>
      <inertia ixx="-0.002133" ixy="0.0001064" ixz="-0.0028403" iyy="-0.0026707" iyz="-0.00020447" izz="0.0025121"/>
    </inertial>
  </link>
  <link name="yumi_robr_link_2">
    <visual>
      <!-- Origin -->
      <origin rpy="0.0 0.0 0.0" xyz="0.0 0.0 0.0"/>
      <geometry>
        <mesh filename="package://abb_mp_irb14000_description/meshes/irb14000_05_50/visual/robr_link_2.stl"/>
      </geometry>
      <material name="light_grey">
        <color rgba="0.6 0.6 0.6 1.0"/>
      </material>
    </visual>
    <collision>
      <!-- Origin -->
      <origin rpy="0.0 0.0 0.0" xyz="0.0 0.0 0.0"/>
      <geometry>
        <mesh filename="package://abb_mp_irb14000_description/meshes/irb14000_05_50/collision/robr_link_2.stl"/>
      </geometry>
    </collision>
    <inertial>
      <!-- Origin -->
      <origin rpy="0.0 0.0 0.0" xyz="0.01828 -0.0177 0.06202"/>
      <!-- Mass -->
      <mass value="1.444"/>
      <inertia ixx="0.0014233" ixy="-0.00010821" ixz="0.0026971" iyy="0.0011432" iyz="-0.00015516" izz="0.0013151"/>
    </inertial>
  </link>
  <link name="yumi_robr_link_3">
    <visual>
      <!-- Origin -->
      <origin rpy="0.0 0.0 0.0" xyz="0.0 0.0 0.0"/>
      <geometry>
        <mesh filename="package://abb_mp_irb14000_description/meshes/irb14000_05_50/visual/robr_link_3.stl"/>
      </geometry>
      <material name="light_grey">
        <color rgba="0.6 0.6 0.6 1.0"/>
      </material>
    </visual>
    <collision>
      <!-- Origin -->
      <origin rpy="0.0 0.0 0.0" xyz="0.0 0.0 0.0"/>
      <geometry>
        <mesh filename="package://abb_mp_irb14000_description/meshes/irb14000_05_50/collision/robr_link_3.stl"/>
      </geometry>
    </collision>
    <inertial>
      <!-- Origin -->
      <origin rpy="0.0 0.0 0.0" xyz="0.02349 0.00556 0.05944"/>
      <!-- Mass -->
      <mass value="0.936"/>
      <inertia ixx="-0.00082593e2" ixy="0.00012488" ixz="0.0019949" iyy="-0.0014135e2" iyz="0.00039834" izz="0.0008846e2"/>
    </inertial>
  </link>
  <!--xacro:link_tag name="robr_link_4"/>
	  <xacro:link_tag name="robr_link_5"/>
	  <xacro:link_tag name="robr_link_6"/>
	  <xacro:link_tag name="robr_link_7"/>
	  <xacro:link_tag name="robr_flange"/>
	  <xacro:link_tag name="robr_tool0"/-->
  <joint name="yumi_base_joint" type="fixed">
    <!-- Parent and child -->
    <parent link="yumi_base_link"/>
    <child link="yumi_base"/>
    <!-- Origin -->
    <origin rpy="0.0 0.0 0.0" xyz="0.0 0.0 0.0"/>
  </joint>
  <joint name="yumi_robl_base_joint" type="fixed">
    <!-- Parent and child -->
    <parent link="yumi_base_link"/>
    <child link="yumi_robl_base_link"/>
    <!-- Origin -->
    <origin rpy="-0.979574289414893 0.569499575052463 -0.8258330548971096" xyz="0.047607 0.070008 0.411486"/>
  </joint>
  <joint name="yumi_robl_joint_1" type="revolute">
    <!-- Parent and child -->
    <parent link="yumi_robl_base_link"/>
    <child link="yumi_robl_link_1"/>
    <!-- Origin -->
    <origin rpy="0.0 0.0 0.0" xyz="0.0 0.0 0.0"/>
    <axis xyz="0 0 1"/>
    <limit effort="100.0" lower="-2.9408797896104453" upper="2.9408797896104453" velocity="3.141592653589793"/>
    <dynamics damping="0.0" friction="0.0"/>
  </joint>
  <joint name="yumi_robl_joint_2" type="revolute">
    <!-- Parent and child -->
    <parent link="yumi_robl_link_1"/>
    <child link="yumi_robl_link_2"/>
    <!-- Origin -->
    <origin rpy="0.0 0.0 0.0" xyz="-0.03 0.0 0.1075"/>
    <axis xyz="0 1 0"/>
    <limit effort="100.0" lower="-2.504547476611863" upper="0.7592182246175333" velocity="3.141592653589793"/>
    <dynamics damping="0.0" friction="0.0"/>
  </joint>
  <!--xacro:joint_tag name="robl_joint_3"        parent="robl_link_2"    child="robl_link_3"/>
    <xacro:joint_tag name="robl_joint_4"        parent="robl_link_3"    child="robl_link_4"/>
    <xacro:joint_tag name="robl_joint_5"        parent="robl_link_4"    child="robl_link_5"/>
    <xacro:joint_tag name="robl_joint_6"        parent="robl_link_5"    child="robl_link_6"/>
    <xacro:joint_tag name="robl_joint_7"        parent="robl_link_6"    child="robl_link_7"/>
    <xacro:joint_tag name="robl_joint_7_flange" parent="robl_link_7"    child="robl_flange"/>
    <xacro:joint_tag name="robl_flange_tool0"   parent="robl_flange"    child="robl_tool0"/-->
  <joint name="yumi_robr_base_joint" type="fixed">
    <!-- Parent and child -->
    <parent link="yumi_base_link"/>
    <child link="yumi_robr_base_link"/>
    <!-- Origin -->
    <origin rpy="0.979574289414893 0.569499575052463 0.8258330548971096" xyz="0.047607 -0.070008 0.411486"/>
  </joint>
  <joint name="yumi_robr_joint_1" type="revolute">
    <!-- Parent and child -->
    <parent link="yumi_robr_base_link"/>
    <child link="yumi_robr_link_1"/>
    <!-- Origin -->
    <origin rpy="0.0 0.0 0.0" xyz="0.0 0.0 0.0"/>
    <axis xyz="0 0 1"/>
    <limit effort="100.0" lower="-2.9408797896104453" upper="2.9408797896104453" velocity="3.141592653589793"/>
    <dynamics damping="0.0" friction="0.0"/>
  </joint>
  <joint name="yumi_robr_joint_2" type="revolute">
    <!-- Parent and child -->
    <parent link="yumi_robr_link_1"/>
    <child link="yumi_robr_link_2"/>
    <!-- Origin -->
    <origin rpy="0.0 0.0 0.0" xyz="-0.03 0.0 0.1075"/>
    <axis xyz="0 1 0"/>
    <limit effort="100.0" lower="-2.504547476611863" upper="0.7592182246175333" velocity="3.141592653589793"/>
    <dynamics damping="0.0" friction="0.0"/>
  </joint>
  <joint name="yumi_robr_joint_3" type="revolute">
    <!-- Parent and child -->
    <parent link="yumi_robr_link_2"/>
    <child link="yumi_robr_link_3"/>
    <!-- Origin -->
    <origin rpy="0.0 0.0 0.0" xyz="0.03 0.0 0.1603"/>
    <axis xyz="0 0 1"/>
    <limit effort="100.0" lower="-2.9408797896104453" upper="2.9408797896104453" velocity="3.141592653589793"/>
    <dynamics damping="1.0" friction="0.0"/>
  </joint>
  <!--xacro:joint_tag name="robr_joint_4"        parent="robr_link_3"    child="robr_link_4"/>
    <xacro:joint_tag name="robr_joint_5"        parent="robr_link_4"    child="robr_link_5"/>
    <xacro:joint_tag name="robr_joint_6"        parent="robr_link_5"    child="robr_link_6"/>
    <xacro:joint_tag name="robr_joint_7"        parent="robr_link_6"    child="robr_link_7"/>
    <xacro:joint_tag name="robr_joint_7_flange" parent="robr_link_7"    child="robr_flange"/>
    <xacro:joint_tag name="robr_flange_tool0"   parent="robr_flange"    child="robr_tool0"/-->
  <transmission name="yumi_robl_transmission_1">
    <type>transmission_interface/SimpleTransmission</type>
    <joint name="yumi_robl_joint_1">
      <hardwareInterface>hardware_interface/EffortJointInterface</hardwareInterface>
    </joint>
    <actuator name="yumi_robl_joint_1_motor">
      <mechanicalReduction>1.0</mechanicalReduction>
    </actuator>
  </transmission>
  <transmission name="yumi_robl_transmission_2">
    <type>transmission_interface/SimpleTransmission</type>
    <joint name="yumi_robl_joint_2">
      <hardwareInterface>hardware_interface/EffortJointInterface</hardwareInterface>
    </joint>
    <actuator name="yumi_robl_joint_2_motor">
      <mechanicalReduction>1.0</mechanicalReduction>
    </actuator>
  </transmission>
  <!--xacro:transmission_tag name="robl_transmission_3" joint="robl_joint_3"/>
    <xacro:transmission_tag name="robl_transmission_4" joint="robl_joint_4"/>
    <xacro:transmission_tag name="robl_transmission_5" joint="robl_joint_5"/>
    <xacro:transmission_tag name="robl_transmission_6" joint="robl_joint_6"/>
    <xacro:transmission_tag name="robl_transmission_7" joint="robl_joint_7"/-->
  <transmission name="yumi_robr_transmission_1">
    <type>transmission_interface/SimpleTransmission</type>
    <joint name="yumi_robr_joint_1">
      <hardwareInterface>hardware_interface/EffortJointInterface</hardwareInterface>
    </joint>
    <actuator name="yumi_robr_joint_1_motor">
      <mechanicalReduction>1.0</mechanicalReduction>
    </actuator>
  </transmission>
  <transmission name="yumi_robr_transmission_2">
    <type>transmission_interface/SimpleTransmission</type>
    <joint name="yumi_robr_joint_2">
      <hardwareInterface>hardware_interface/EffortJointInterface</hardwareInterface>
    </joint>
    <actuator name="yumi_robr_joint_2_motor">
      <mechanicalReduction>1.0</mechanicalReduction>
    </actuator>
  </transmission>
  <transmission name="yumi_robr_transmission_3">
    <type>transmission_interface/SimpleTransmission</type>
    <joint name="yumi_robr_joint_3">
      <hardwareInterface>hardware_interface/EffortJointInterface</hardwareInterface>
    </joint>
    <actuator name="yumi_robr_joint_3_motor">
      <mechanicalReduction>1.0</mechanicalReduction>
    </actuator>
  </transmission>
  <!--xacro:transmission_tag name="robr_transmission_4" joint="robr_joint_4"/>
    <xacro:transmission_tag name="robr_transmission_5" joint="robr_joint_5"/>
    <xacro:transmission_tag name="robr_transmission_6" joint="robr_joint_6"/>
    <xacro:transmission_tag name="robr_transmission_7" joint="robr_joint_7"/-->
  <gazebo reference="yumi_base_link">
    <material>Gazebo/White</material>
    <turnGravityOff>False</turnGravityOff>
  </gazebo>
  <gazebo reference="yumi_robl_link_1">
    <mu1 value="1.0"/>
    <mu2 value="1"/>
    <kp value="10000000.0"/>
    <kd value="1000.0"/>
    <fdir1 value="1 0 0"/>
    <turnGravityOff>False</turnGravityOff>
  </gazebo>
  <gazebo reference="yumi_robl_link_2">
    <mu1 value="1.0"/>
    <mu2 value="1"/>
    <kp value="10000000.0"/>
    <kd value="1000.0"/>
    <fdir1 value="1 0 0"/>
    <turnGravityOff>False</turnGravityOff>
  </gazebo>
  <!--xacro:gazebo_link_tag link="robl_link_3"/>
    <xacro:gazebo_link_tag link="robl_link_4"/>
    <xacro:gazebo_link_tag link="robl_link_5"/>
    <xacro:gazebo_link_tag link="robl_link_6"/>
    <xacro:gazebo_link_tag link="robl_link_7"/-->
  <gazebo reference="yumi_robr_link_1">
    <mu1 value="1.0"/>
    <mu2 value="1"/>
    <kp value="10000000.0"/>
    <kd value="1000.0"/>
    <fdir1 value="1 0 0"/>
    <turnGravityOff>False</turnGravityOff>
  </gazebo>
  <gazebo reference="yumi_robr_link_2">
    <mu1 value="1.0"/>
    <mu2 value="1"/>
    <kp value="10000000.0"/>
    <kd value="1000.0"/>
    <fdir1 value="1 0 0"/>
    <turnGravityOff>False</turnGravityOff>
  </gazebo>
  <gazebo reference="yumi_robr_link_3">
    <mu1 value="1.0"/>
    <mu2 value="1"/>
    <kp value="10000000.0"/>
    <kd value="1000.0"/>
    <fdir1 value="1 0 0"/>
    <turnGravityOff>False</turnGravityOff>
  </gazebo>
  <!--xacro:gazebo_link_tag link="robr_link_4"/>
    <xacro:gazebo_link_tag link="robr_link_5"/>
    <xacro:gazebo_link_tag link="robr_link_6"/>
    <xacro:gazebo_link_tag link="robr_link_7"/-->
  <joint name="pillar_yumi_joint" type="fixed">
    <!-- Parent and child -->
    <parent link="pillar_top_link"/>
    <child link="yumi_base_link"/>
    <!-- Origin -->
    <origin rpy="0.0 0.0 0.0" xyz="0.234995 0.0 -0.108"/>
  </joint>
  <!-- SmartGrippers -->
  <!--xacro:abb_sg prefix="${prefix}yumi_robl_sg_"/>
    <xacro:abb_sg prefix="${prefix}yumi_robr_sg_"/>
    <xacro:joint_tag name="yumi_robl_sg_joint" parent="yumi_robl_tool0" child="yumi_robl_sg_base_link"/>
    <xacro:joint_tag name="yumi_robr_sg_joint" parent="yumi_robr_tool0" child="yumi_robr_sg_base_link"/-->
  <!-- ============================================== Include Macros =============================================== -->
  <!-- ================================================ Main Macros ================================================ -->
  <!-- ============================================== Support Macros =============================================== -->
  <!-- ================================================ Main Macros ================================================ -->
  <!-- ============================================== Support Macros =============================================== -->
  <!-- ================================================ Main Macros ================================================ -->
  <!-- ================================================ Main Macros ================================================ -->
  <!-- ============================================== Support Macros =============================================== -->
  <!-- ================================================ Main Macros ================================================ -->
  <!-- ================================================ Main Macros ================================================ -->
  <!-- ================================================ Main Macros ================================================ -->
  <!-- ============================================== Support Macros =============================================== -->
  <link name="yumi_cs_base_link">
    <visual>
      <!-- Origin -->
      <origin rpy="0.0 0.0 0.0" xyz="0.0 0.0 0.0"/>
      <geometry>
        <mesh filename="package://abb_mp_camera_stand_description/meshes/cs_v2/visual/base_link.stl"/>
      </geometry>
      <material name="light_grey">
        <color rgba="0.6 0.6 0.6 1.0"/>
      </material>
    </visual>
    <collision>
      <!-- Origin -->
      <origin rpy="0.0 0.0 0.0" xyz="0.0 0.0 0.0"/>
      <geometry>
        <mesh filename="package://abb_mp_camera_stand_description/meshes/cs_v2/collision/base_link.stl"/>
      </geometry>
    </collision>
    <inertial>
      <!-- Origin -->
      <origin rpy="0.0 0.0 0.0" xyz="0.0 0.0 0.0"/>
      <!-- Mass -->
      <mass value="1e-05"/>
      <inertia ixx="1e-06" ixy="0.0" ixz="0.0" iyy="1e-06" iyz="0.0" izz="1e-06"/>
    </inertial>
  </link>
  <link name="yumi_cs_plate_link">
    <visual>
      <!-- Origin -->
      <origin rpy="0.0 0.0 0.0" xyz="0.0 0.0 0.0"/>
      <geometry>
        <mesh filename="package://abb_mp_camera_stand_description/meshes/cs_v2/visual/plate_link.stl"/>
      </geometry>
      <material name="dark_grey">
        <color rgba="0.3 0.3 0.3 1.0"/>
      </material>
    </visual>
    <collision>
      <!-- Origin -->
      <origin rpy="0.0 0.0 0.0" xyz="0.0 0.0 0.0"/>
      <geometry>
        <mesh filename="package://abb_mp_camera_stand_description/meshes/cs_v2/collision/plate_link.stl"/>
      </geometry>
    </collision>
    <inertial>
      <!-- Origin -->
      <origin rpy="0.0 0.0 0.0" xyz="0.0 0.0 0.0"/>
      <!-- Mass -->
      <mass value="1e-05"/>
      <inertia ixx="1e-06" ixy="0.0" ixz="0.0" iyy="1e-06" iyz="0.0" izz="1e-06"/>
    </inertial>
  </link>
  <link name="yumi_cs_attachment_link">
    <inertial>
      <!-- Mass -->
      <mass value="1.0e-5"/>
      <!-- Inertia -->
      <inertia ixx="1.0e-6" ixy="0.0" ixz="0.0" iyy="1.0e-6" iyz="0.0" izz="1.0e-6"/>
    </inertial>
  </link>
  <joint name="yumi_cs_plate_joint" type="fixed">
    <!-- Parent and child -->
    <parent link="yumi_cs_base_link"/>
    <child link="yumi_cs_plate_link"/>
    <!-- Origin -->
    <origin rpy="0.0 0.5585053606381855 0.0" xyz="0.14935 0.0 0.17194"/>
  </joint>
  <joint name="yumi_cs_attachment_joint" type="fixed">
    <!-- Parent and child -->
    <parent link="yumi_cs_plate_link"/>
    <child link="yumi_cs_attachment_link"/>
    <!-- Origin -->
    <origin rpy="0.0 0.0 0.0" xyz="0.015 0.0 -0.0125"/>
  </joint>
  <gazebo reference="yumi_cs_base_link">
    <material>Gazebo/White</material>
  </gazebo>
  <gazebo reference="yumi_cs_plate_link">
    <material>Gazebo/Grey</material>
  </gazebo>
  <joint name="yumi_cs_joint" type="fixed">
    <!-- Parent and child -->
    <parent link="yumi_base_link"/>
    <child link="yumi_cs_base_link"/>
    <!-- Origin -->
    <origin rpy="0.0 0.0 0.0" xyz="-0.09 0.0 0.469"/>
  </joint>
  <link name="camera_body">
    <visual>
      <origin xyz="0. 0. 0."/>
      <geometry>
        <box size="0.0994 0.0996 0.023"/>
      </geometry>
      <material name="white">
        <color rgba="0.9 0.9 0.9 1"/>
      </material>
    </visual>
    <collision>
      <origin xyz="0. 0. 0."/>
      <geometry>
        <box size="0.0994 0.0996 0.023"/>
      </geometry>
    </collision>
  </link>
  <link name="camera_base">
    <visual>
      <origin xyz="-0.013 0. 0."/>
      <geometry>
        <box size="0.026 0.103 0.039"/>
      </geometry>
      <material name="grey">
        <color rgba="0.6 0.6 0.6 1"/>
      </material>
    </visual>
    <collision>
      <origin xyz="-0.013 0. 0."/>
      <geometry>
        <box size="0.026 0.103 0.039"/>
      </geometry>
    </collision>
  </link>
  <link name="camera_visor">
    <visual>
      <origin xyz="-0.0128 0. 0."/>
      <geometry>
        <box size="0.026 0.101 0.037"/>
      </geometry>
      <material name="black">
        <color rgba="0. 0. 0. 1"/>
      </material>
    </visual>
    <collision>
      <origin xyz="-0.0128 0. 0."/>
      <geometry>
        <box size="0.026 0.101 0.037"/>
      </geometry>
    </collision>
  </link>
  <joint name="camera_base_to_body" type="fixed">
    <parent link="camera_base"/>
    <child link="camera_body"/>
    <origin rpy="0. 0. 0." xyz="-0.0757 0. 0.008"/>
  </joint>
  <joint name="camera_base_to_visor" type="fixed">
    <parent link="camera_base"/>
    <child link="camera_visor"/>
    <origin rpy="0. 0. 0." xyz="0. 0. 0."/>
  </joint>
  <gazebo reference="camera_visor">
    <material>Gazebo/Black</material>
  </gazebo>
  <joint name="cs_camera_joint" type="fixed">
    <!-- Parent and child -->
    <parent link="yumi_cs_attachment_link"/>
    <child link="camera_base"/>
    <!-- Origin -->
    <origin rpy="0.0 0.0 0.0" xyz="0.03 0.0 0.03"/>
  </joint>
  <!-- Gazebo plugin for ROS Control -->
  <gazebo>
    <plugin filename="libgazebo_ros_control.so" name="gazebo_ros_control">
      <robotSimType>gazebo_ros_control/DefaultRobotHWSim</robotSimType>
      <legacyModeNS>true</legacyModeNS>
    </plugin>
    <plugin filename="libgazebo_ros_p3d.so" name="p3d_base_controller">
      <alwaysOn>true</alwaysOn>
      <updateRate>50.0</updateRate>
      <bodyName>base_link</bodyName>
      <topicName>odom</topicName>
      <gaussianNoise>0.001</gaussianNoise>
      <frameName>world</frameName>
      <xyzOffsets>0 0 0</xyzOffsets>
      <rpyOffsets>0 0 0</rpyOffsets>
      <robotNamespace>/</robotNamespace>
    </plugin>
  </gazebo>
</robot>
